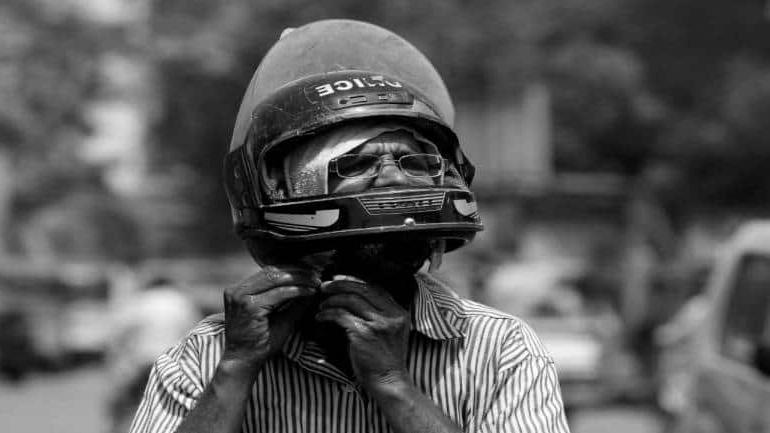Helmet: (226, 28, 478, 265)
